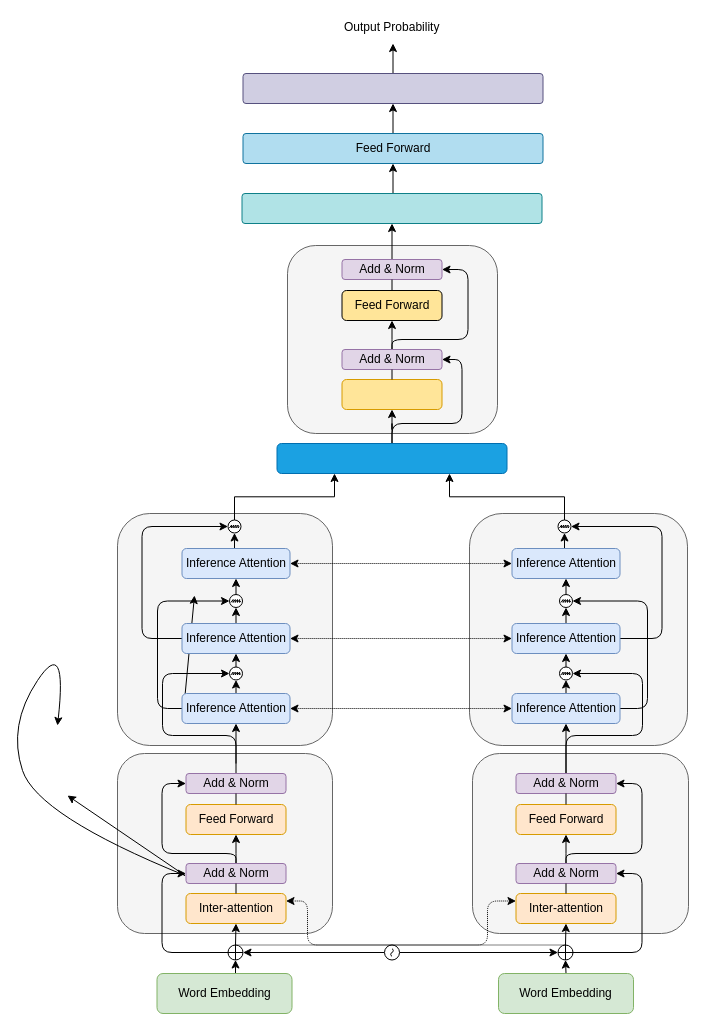
Some shapes in this 706 by 1031 pixel diagram are drawn without their labels. Here are the shapes that lost their labels. From the top down, the centre of each, then its label:
pixel 392 88: Softmax
pixel 391 208: Pooling
pixel 391 394: self-attention
pixel 391 458: concat
